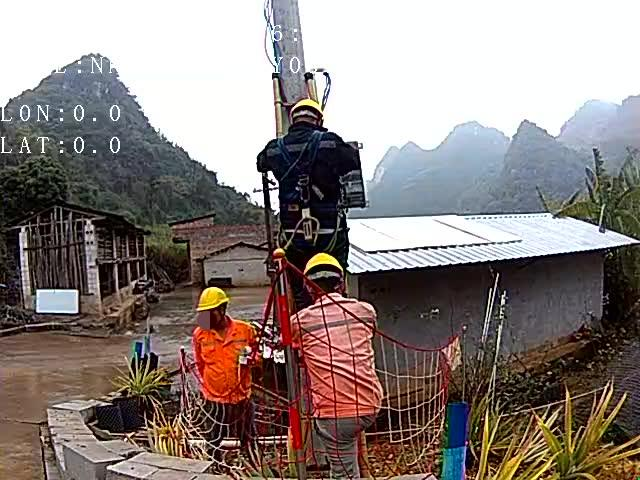halt: (305, 255, 348, 300), (199, 289, 234, 329), (292, 102, 327, 130)
